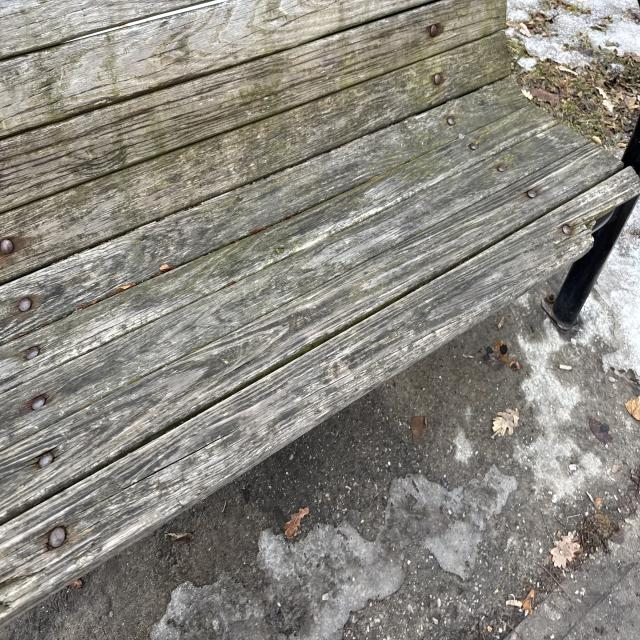Bench: (5, 4, 634, 347)
